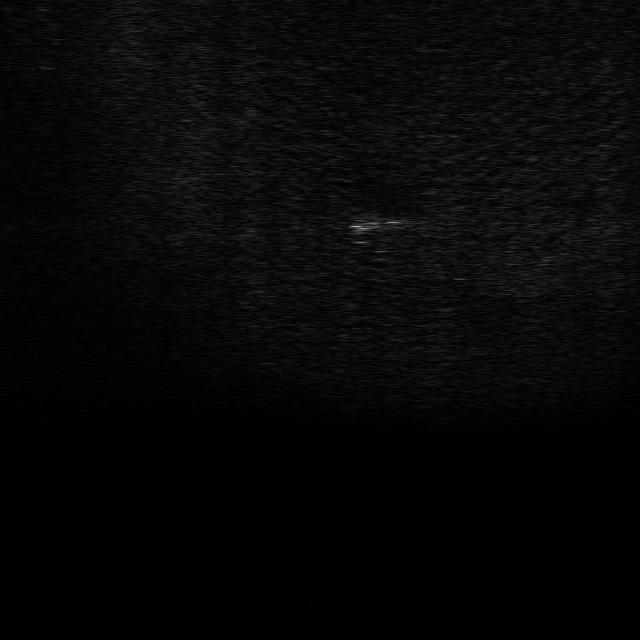plane: (349, 204, 401, 242)
